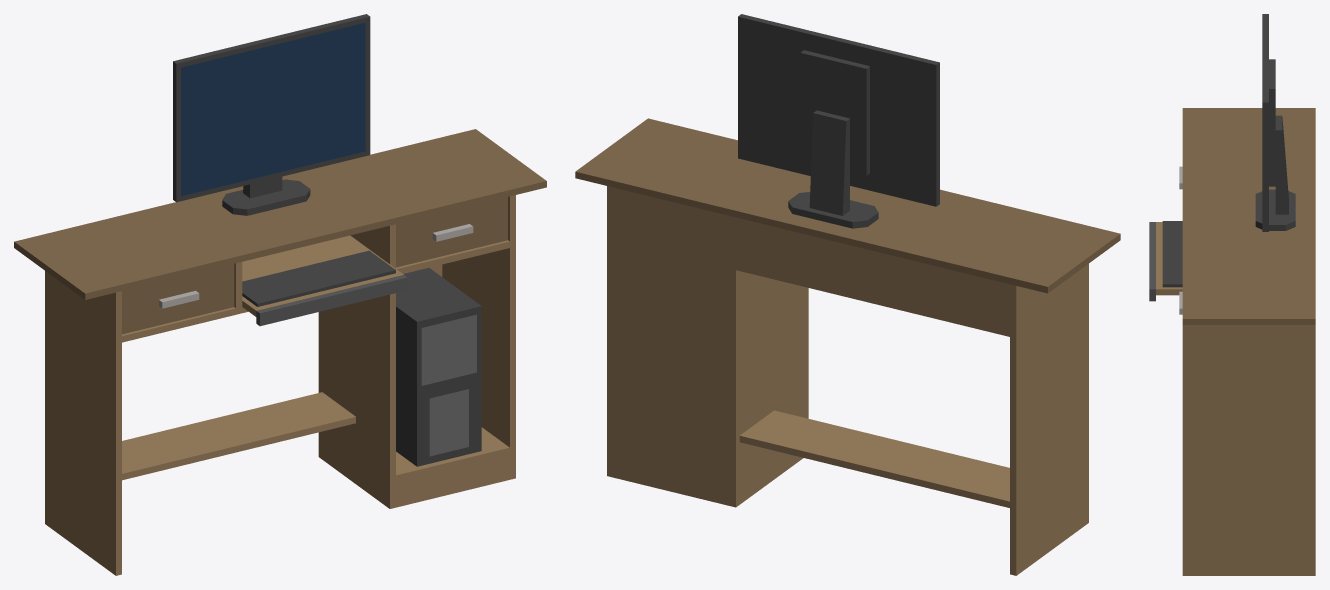
File: PC_Desk.fbx
The picture shows the model from 3 angles, left to right: view 1: azimuth 30°, elevation 25°; view 2: azimuth 150°, elevation 25°; view 3: azimuth 270°, elevation 25°; orthographic projection. The views are drawn at different scales.
Parts seen in each view (by area): view 1: PC_Desk; view 2: PC_Desk; view 3: PC_Desk.
Boxes of the visible parts, <box> form: PC_Desk: <box>14,14,546,575</box>; PC_Desk: <box>575,14,1120,575</box>; PC_Desk: <box>1149,14,1315,575</box>.
Size of the model in its own units: 1.5 by 1.41 by 0.5.
